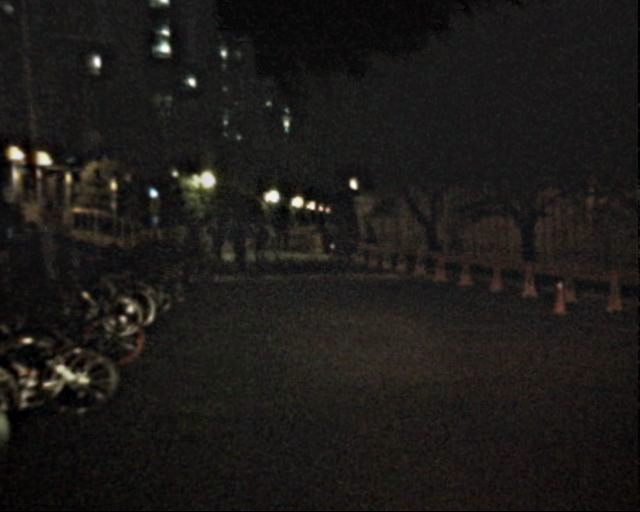person: (34, 218, 62, 287), (61, 222, 86, 283), (230, 221, 251, 273), (358, 221, 379, 271), (205, 219, 224, 266), (186, 217, 204, 261), (248, 222, 265, 263), (221, 220, 236, 257), (273, 220, 291, 249)
